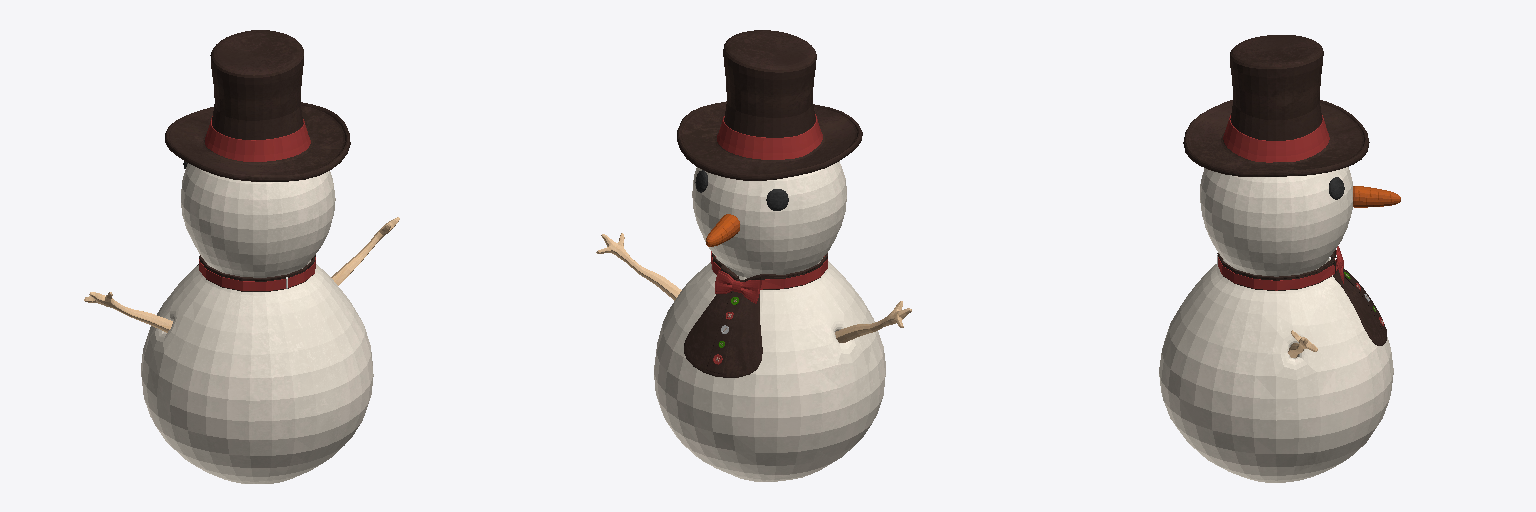
3 renders of one model, left to right at view 1: azimuth 30°, elevation 25°; view 2: azimuth 150°, elevation 25°; view 3: azimuth 270°, elevation 25°, orthographic.
Visible parts, largest first — view 1: snowman3_Mesh; view 2: snowman3_Mesh; view 3: snowman3_Mesh.
Part boxes in pixels (x1,y1,x2,y2): snowman3_Mesh: (84,30,399,483); snowman3_Mesh: (596,30,911,481); snowman3_Mesh: (1159,35,1400,482).
Size of the model in its own units: 3.2 by 4.14 by 2.16.
Materials: 1 (1 with a texture image).